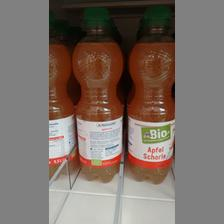Soda: (69, 17, 122, 181), (127, 21, 172, 183), (49, 29, 75, 177)
